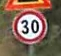limite 30: (10, 9, 49, 44)
